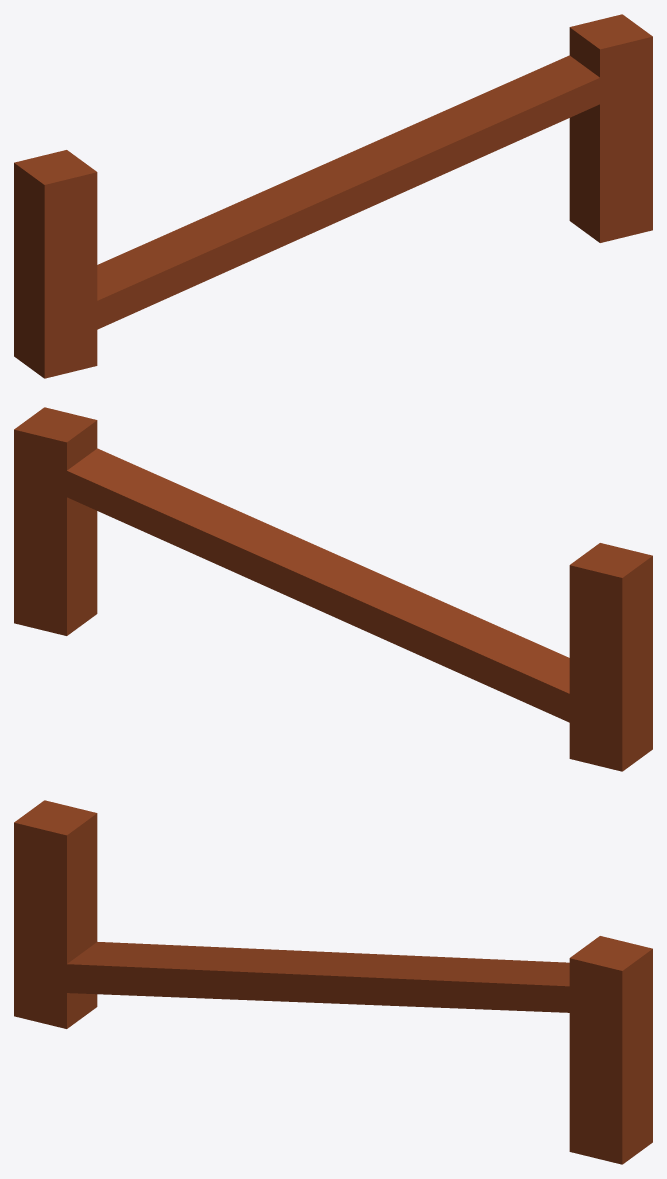
The model's file is fence1.1.fbx.
The picture shows the model from 3 angles, top to bottom: view 1: azimuth 30°, elevation 25°; view 2: azimuth 150°, elevation 25°; view 3: azimuth 330°, elevation 25°; orthographic projection.
Parts seen in each view (by area): view 1: Cube.001; view 2: Cube.001; view 3: Cube.001.
Boxes of the visible parts, x1,y1,x2,y2 form: Cube.001: [14, 14, 652, 378]; Cube.001: [14, 407, 652, 771]; Cube.001: [14, 800, 652, 1164].
Bounding box in the file's own units: 2300 × 700 × 200.
